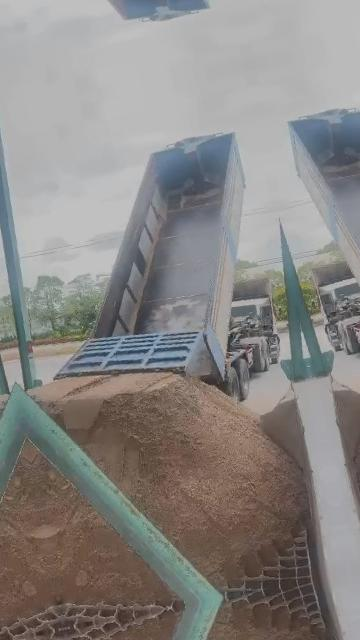sand: (35, 373, 308, 584), (29, 445, 171, 603), (259, 389, 305, 470)
